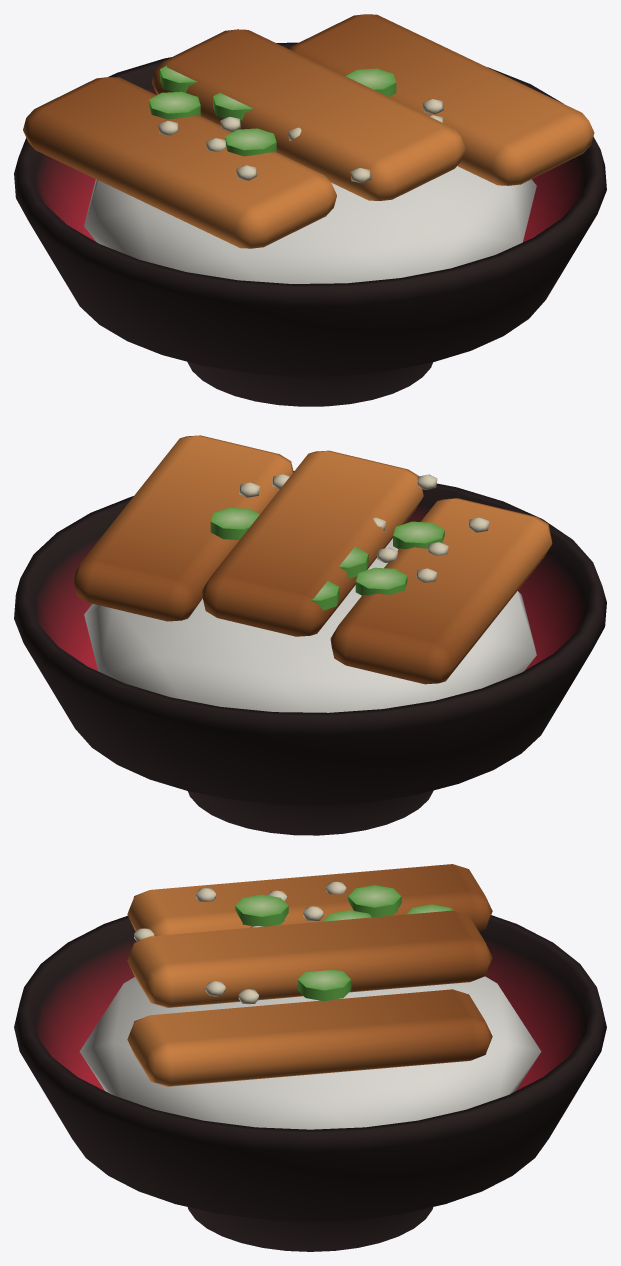
File: item_dish_unagi_don.glb
3 views of the same model, one above another, from view 1: azimuth 30°, elevation 25°; view 2: azimuth 150°, elevation 25°; view 3: azimuth 270°, elevation 25° (orthographic).
Parts seen in each view (by area): view 1: item_dish_unagi_don_main, item_dish_unagi_don_gloss; view 2: item_dish_unagi_don_main, item_dish_unagi_don_gloss; view 3: item_dish_unagi_don_main, item_dish_unagi_don_gloss.
Boxes of the visible parts, x1,y1,x2,y2 form: item_dish_unagi_don_main: [14, 42, 606, 406]; item_dish_unagi_don_gloss: [23, 14, 594, 248]; item_dish_unagi_don_main: [14, 471, 606, 835]; item_dish_unagi_don_gloss: [73, 435, 552, 684]; item_dish_unagi_don_main: [14, 881, 606, 1251]; item_dish_unagi_don_gloss: [127, 864, 492, 1086].
Bounding box in the file's own units: 0.2 × 0.0983 × 0.2.
